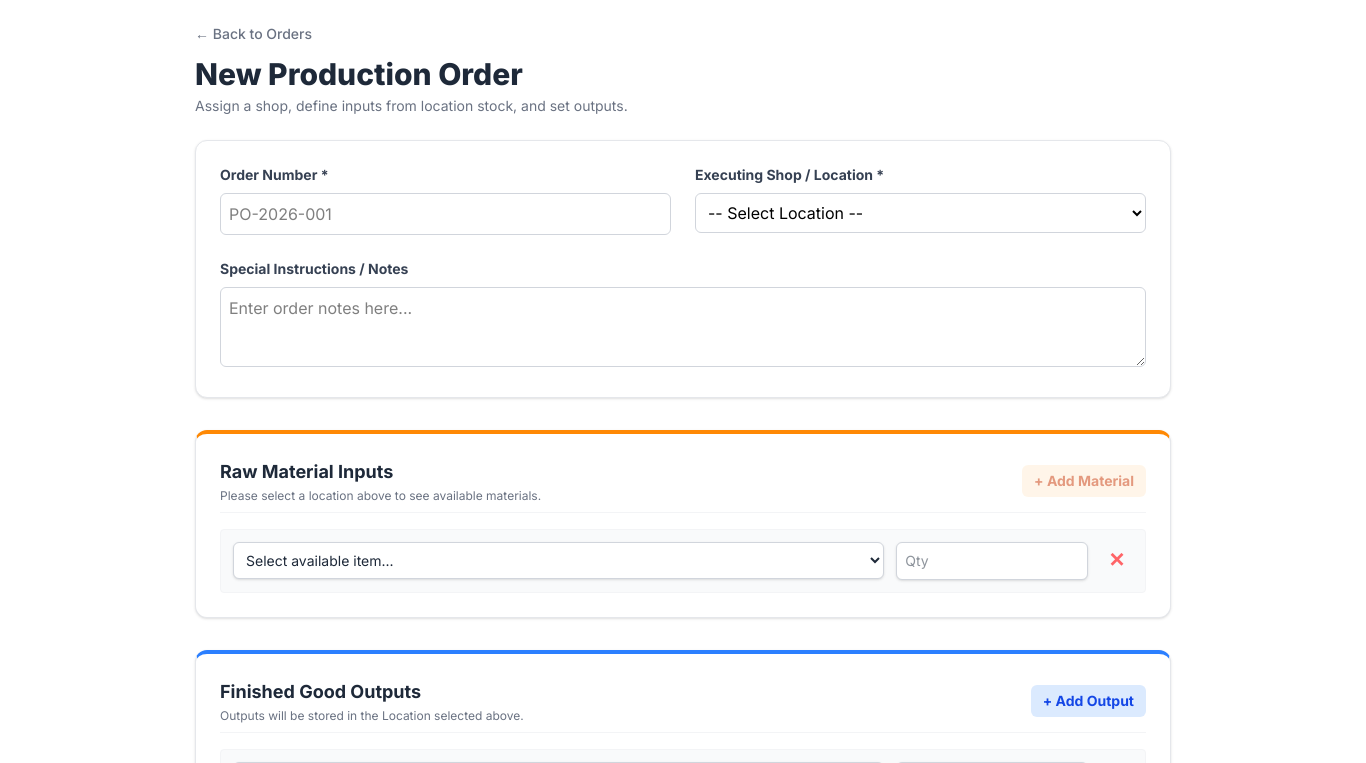
Test: NewOrder — useFieldArray add/remove › enables "+ Add Material" after a location is selected
Expected: the button "+ Add Material" is disabled, x1=1022 y1=465 x2=1146 y2=497
Step 1. Select "Main Shop (shop)" in the dropdown named "locationId" below "Executing Shop / Location *" → (920, 213), box x1=695 y1=193 x2=1146 y2=233
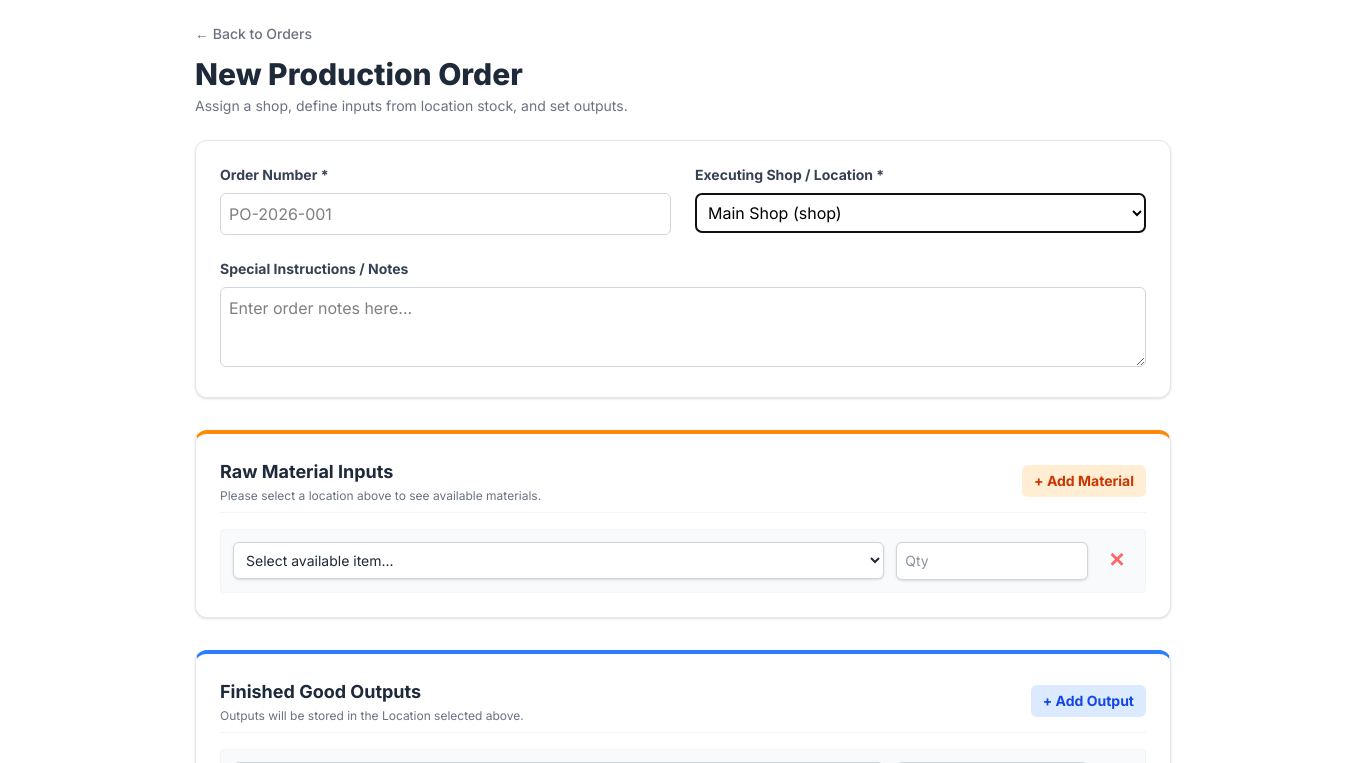
Now the button "+ Add Material" is enabled, box x1=1022 y1=465 x2=1146 y2=497
